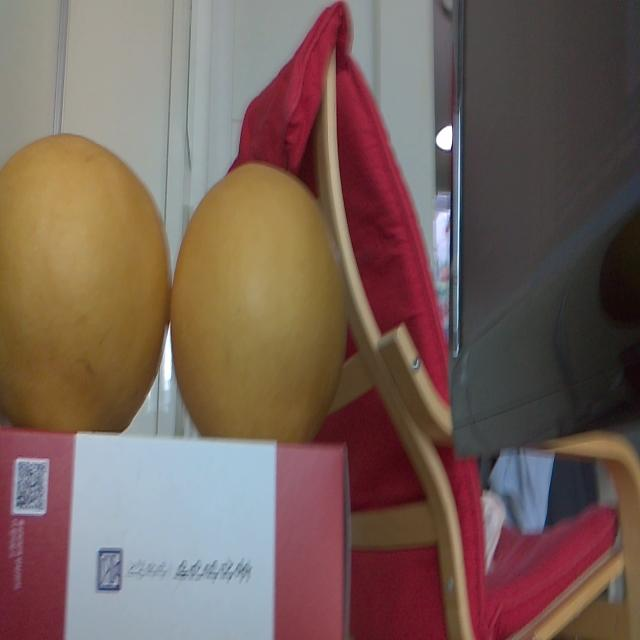pear: (0, 133, 170, 431), (173, 162, 348, 436), (0, 112, 1, 132)
